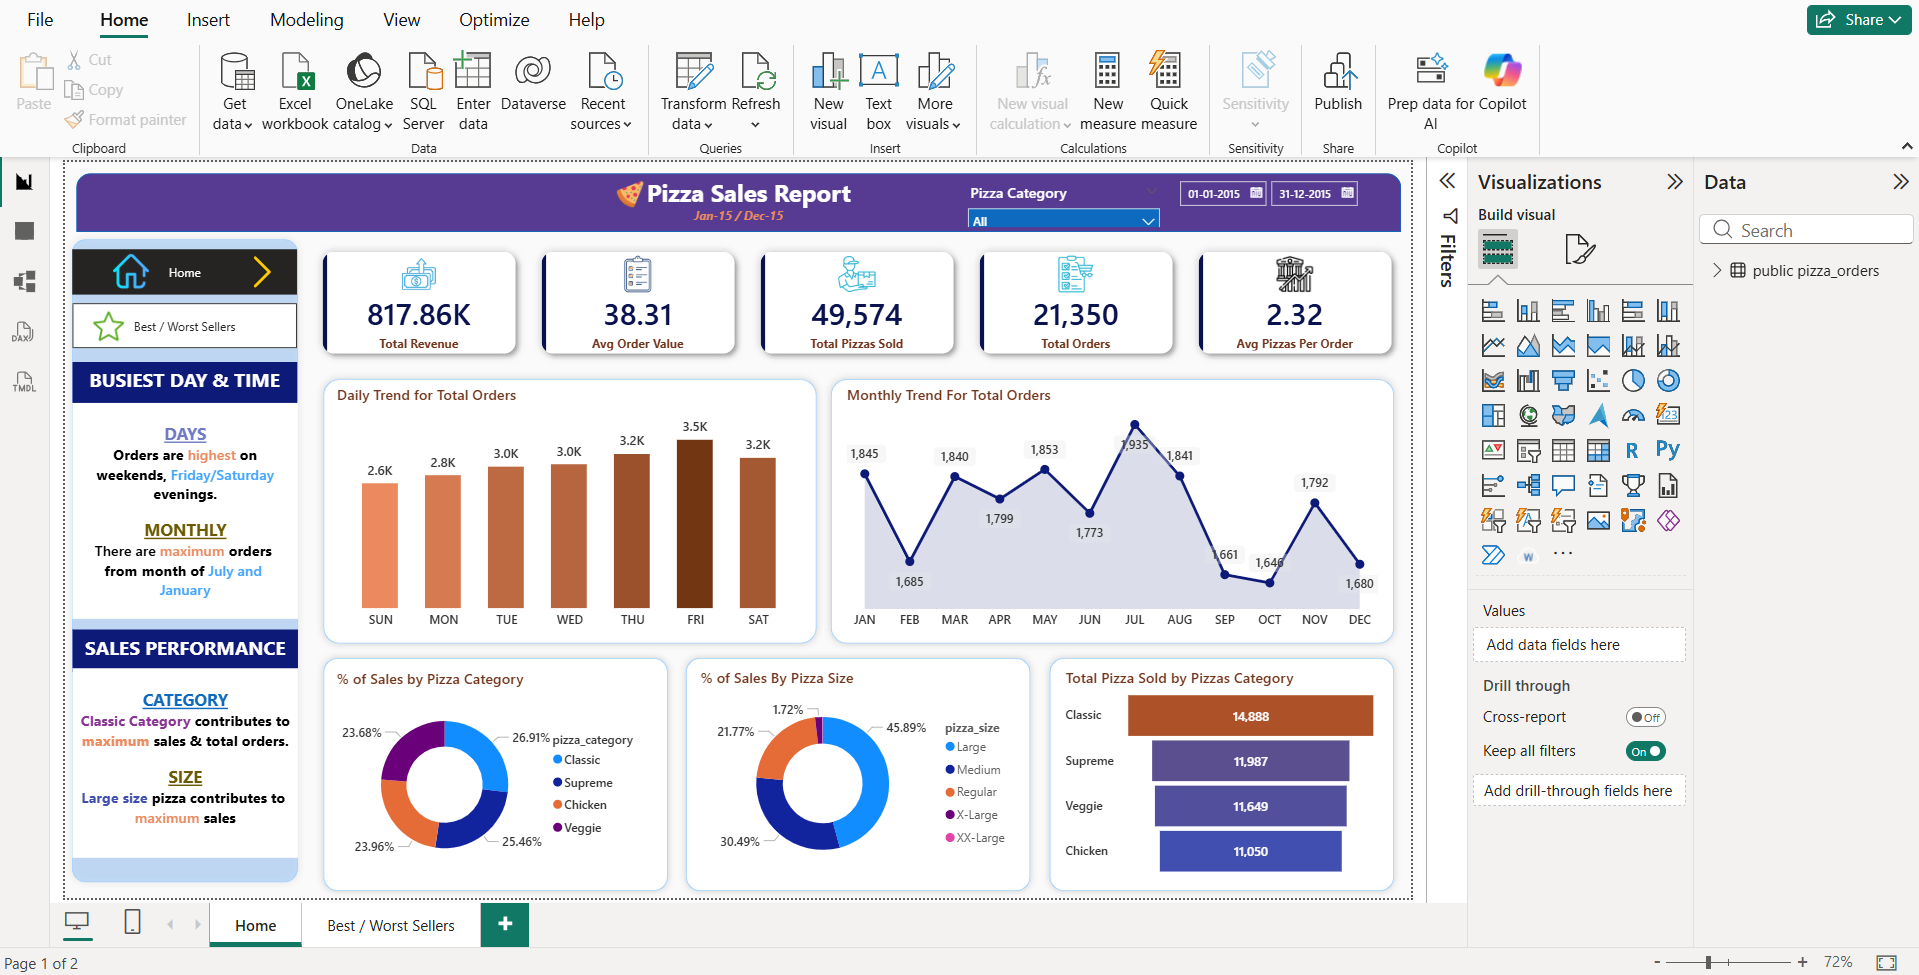

The dashboard page shown, as its layout file describes it:
{"tool":"powerbi","page":{"name":"Home","canvas":[1500,820],"ordinal":0},"visuals":[{"type":"cardVisual","fields":{"Data":["public pizza_orders.Total Revenue","public pizza_orders.Avg Order Value","public pizza_orders.Total Pizzas Sold","public pizza_orders.Total Orders","public pizza_orders.Avg Pizzas Per Order"]},"box":[264.6,78,1235.3,157.4],"z":1000},{"type":"shape","box":[12.5,12.5,1476.2,65.5],"z":2000},{"type":"shape","box":[279.9,234,565.4,310.6],"z":3000},{"type":"shape","box":[0,78,267.4,732.5],"z":3500},{"type":"columnChart","title":"Daily Trend for Total Orders","fields":{"Y":["public pizza_orders.Total Orders"],"Category":["public pizza_orders.Order Day"]},"box":[298,247.9,529.2,281.3],"z":4000},{"type":"textbox","box":[8.3,520.8,251.4,47.2],"z":4500},{"type":"shape","box":[845.4,234,643.4,310.6],"z":5000},{"type":"areaChart","title":"Monthly Trend For Total Orders","fields":{"Category":["public pizza_orders.Order Month"],"Y":["public pizza_orders.Total Orders"]},"box":[866.2,247.9,601.6,281.3],"z":6000},{"type":"textbox","box":[639.2,11.1,245.1,48.7],"z":7000},{"type":"textbox","box":[693.5,46,114.2,27.9],"z":8000},{"type":"image","box":[610,20.9,39,30.6],"z":9000},{"type":"shape","box":[279.9,544.5,399.7,275.7],"z":10000},{"type":"shape","box":[683.8,544.5,399.7,275.7],"z":11000},{"type":"shape","box":[1089.1,544.5,399.7,275.7],"z":12000},{"type":"donutChart","title":"% of Sales by Pizza Category","fields":{"Category":["public pizza_orders.pizza_category"],"Y":["public pizza_orders.Total Revenue"]},"box":[298,564,362.1,238.1],"z":13000},{"type":"donutChart","title":"% of Sales By Pizza Size","fields":{"Category":["public pizza_orders.pizza_size"],"Y":["public pizza_orders.Total Revenue"]},"box":[703.3,562.6,362.1,238.1],"z":14000},{"type":"funnel","title":"Total Pizza Sold by Pizzas Category","fields":{"Category":["public pizza_orders.pizza_category"],"Y":["public pizza_orders.Total Pizzas Sold"]},"box":[1110,562.6,357.9,238.1],"z":15000},{"type":"textbox","box":[8.3,268.1,251.4,241.7],"z":15001},{"type":"textbox","box":[8.3,563.9,251.4,211.1],"z":15002},{"type":"textbox","box":[8.3,222.2,250,45.8],"z":15003},{"type":"slicer","fields":{"Values":["public pizza_orders.pizza_category"]},"box":[995.8,18.1,234,54.3],"z":15004},{"type":"slicer","fields":{"Values":["public pizza_orders.order_date"]},"box":[1229.7,11.1,238.1,66.8],"z":15005},{"type":"pageNavigator","box":[8.3,156.9,250,50],"z":15006},{"type":"pageNavigator","box":[8.3,97.2,250,50],"z":15007},{"type":"image","box":[191.7,104.2,55.6,36.1],"z":15008},{"type":"image","box":[25,165.3,47.2,34.7],"z":15009},{"type":"image","box":[48.6,101.4,50,40.3],"z":15010}]}

Visuals, with their boxes on the page's 1500x820 design canvas (x1, y1, x2, y2). These are canvas units, not pixel positions in the 1919x975 screenshot, which may show the page scaled, cropped or inside an application window:
cardVisual - public pizza_orders.Total Revenue x public pizza_orders.Avg Order Value: select_region(265, 78, 1500, 235)
shape: select_region(12, 12, 1489, 78)
shape: select_region(280, 234, 845, 545)
shape: select_region(0, 78, 267, 810)
"Daily Trend for Total Orders" columnChart: select_region(298, 248, 827, 529)
textbox: select_region(8, 521, 260, 568)
shape: select_region(845, 234, 1489, 545)
"Monthly Trend For Total Orders" areaChart: select_region(866, 248, 1468, 529)
textbox: select_region(639, 11, 884, 60)
textbox: select_region(694, 46, 808, 74)
image: select_region(610, 21, 649, 52)
shape: select_region(280, 544, 680, 820)
shape: select_region(684, 544, 1084, 820)
shape: select_region(1089, 544, 1489, 820)
"% of Sales by Pizza Category" donutChart: select_region(298, 564, 660, 802)
"% of Sales By Pizza Size" donutChart: select_region(703, 563, 1065, 801)
"Total Pizza Sold by Pizzas Category" funnel: select_region(1110, 563, 1468, 801)
textbox: select_region(8, 268, 260, 510)
textbox: select_region(8, 564, 260, 775)
textbox: select_region(8, 222, 258, 268)
slicer - public pizza_orders.pizza_category: select_region(996, 18, 1230, 72)
slicer - public pizza_orders.order_date: select_region(1230, 11, 1468, 78)
pageNavigator: select_region(8, 157, 258, 207)
pageNavigator: select_region(8, 97, 258, 147)
image: select_region(192, 104, 247, 140)
image: select_region(25, 165, 72, 200)
image: select_region(49, 101, 99, 142)
